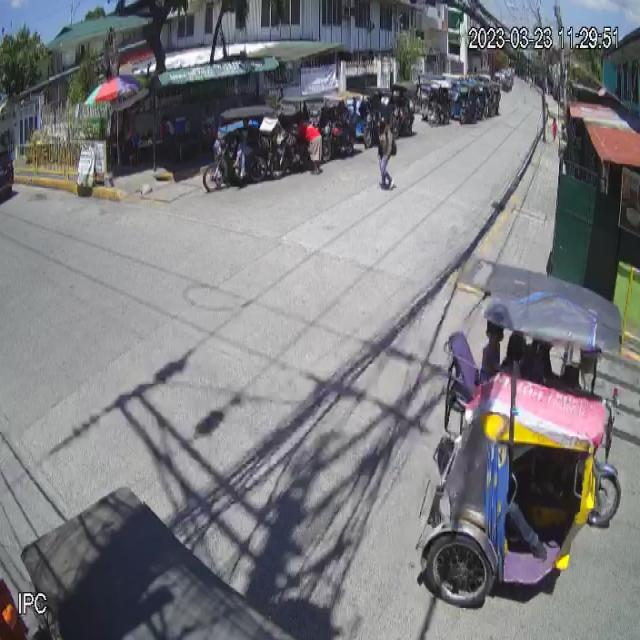Tricycle: (416, 267, 622, 605)
